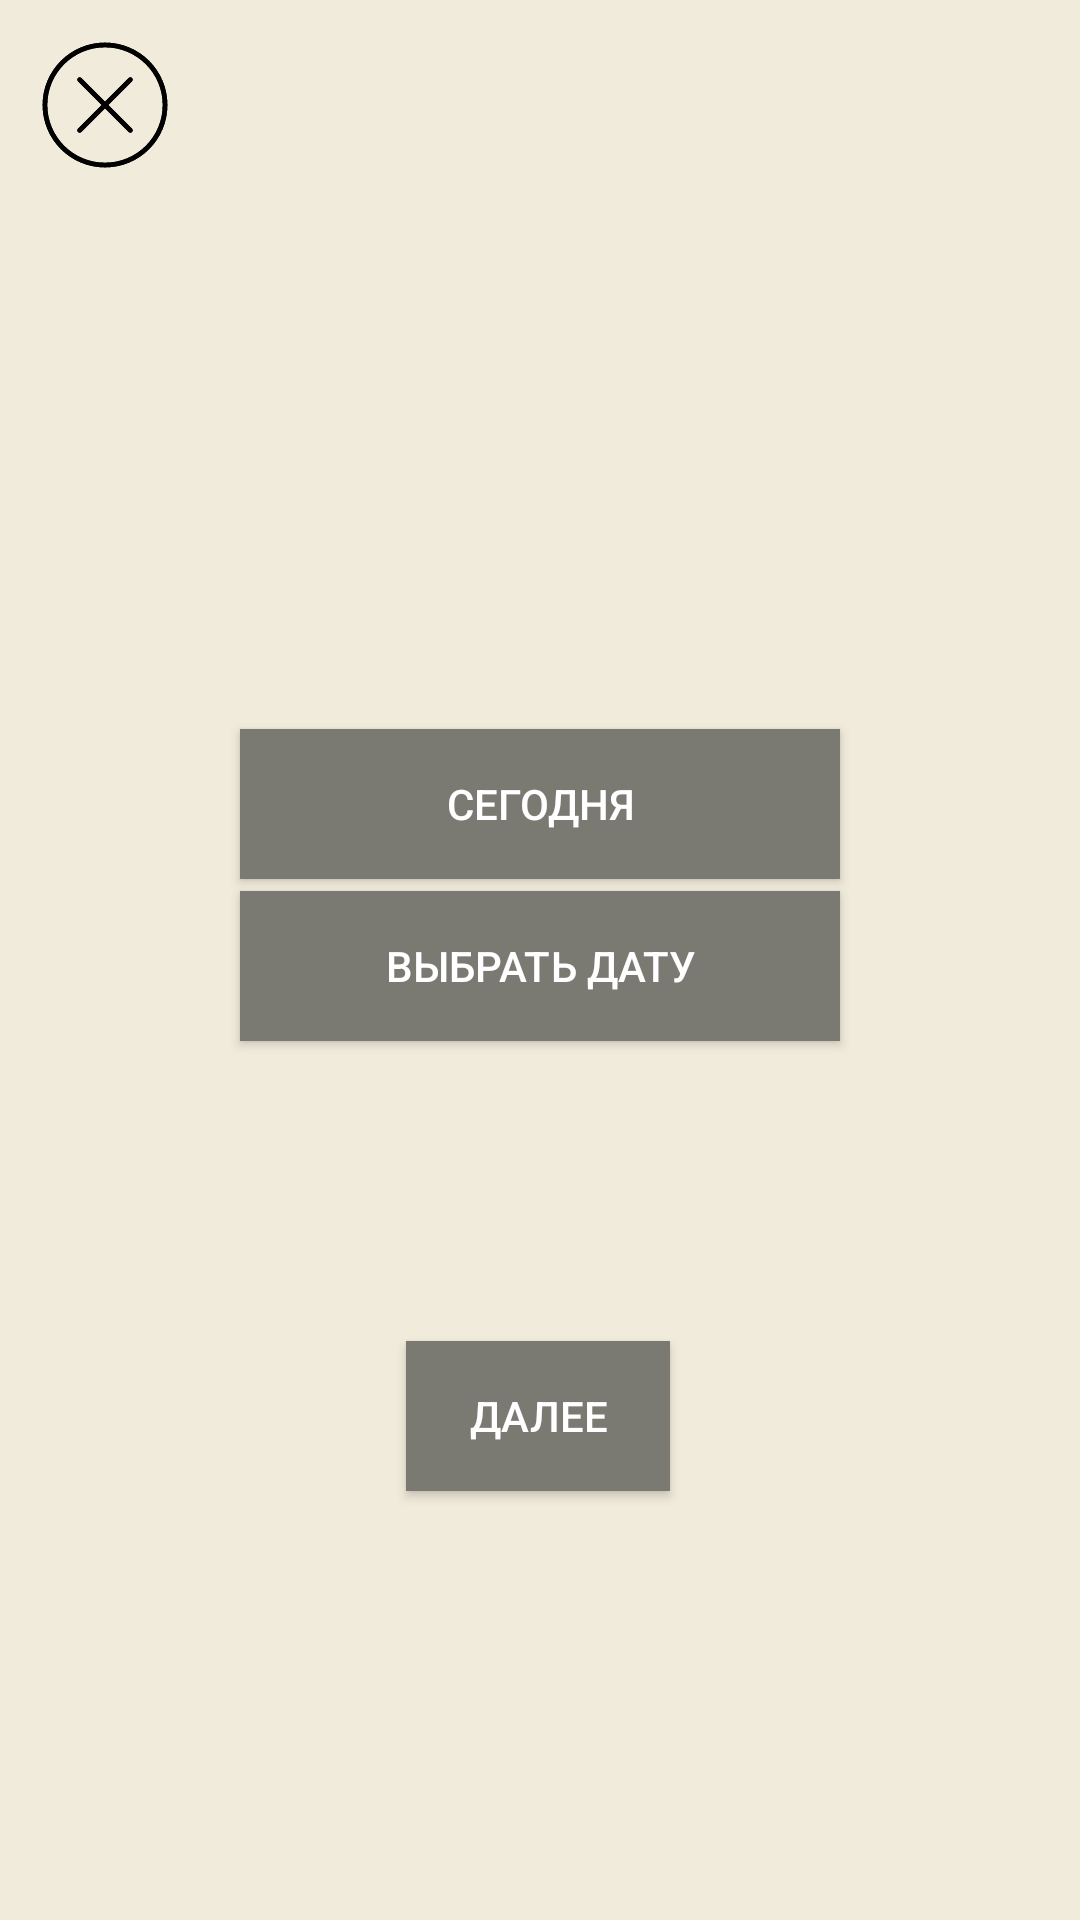

Locate icon controls on the screen. Image size 1080 x 1920, boxes as [x1,y1,x2,y2].
закрыть выбор дня: [42,42,168,168]
